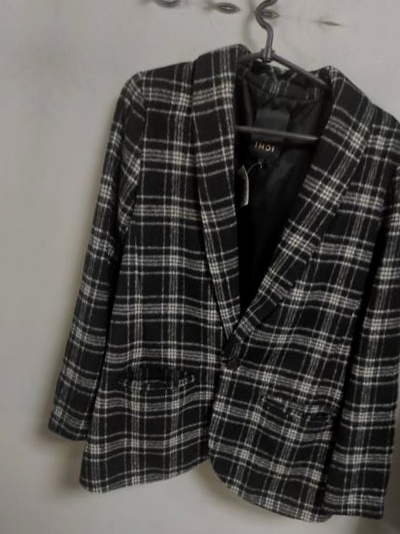Blazer: (5, 28, 400, 534), (0, 0, 35, 485), (87, 0, 400, 1)
